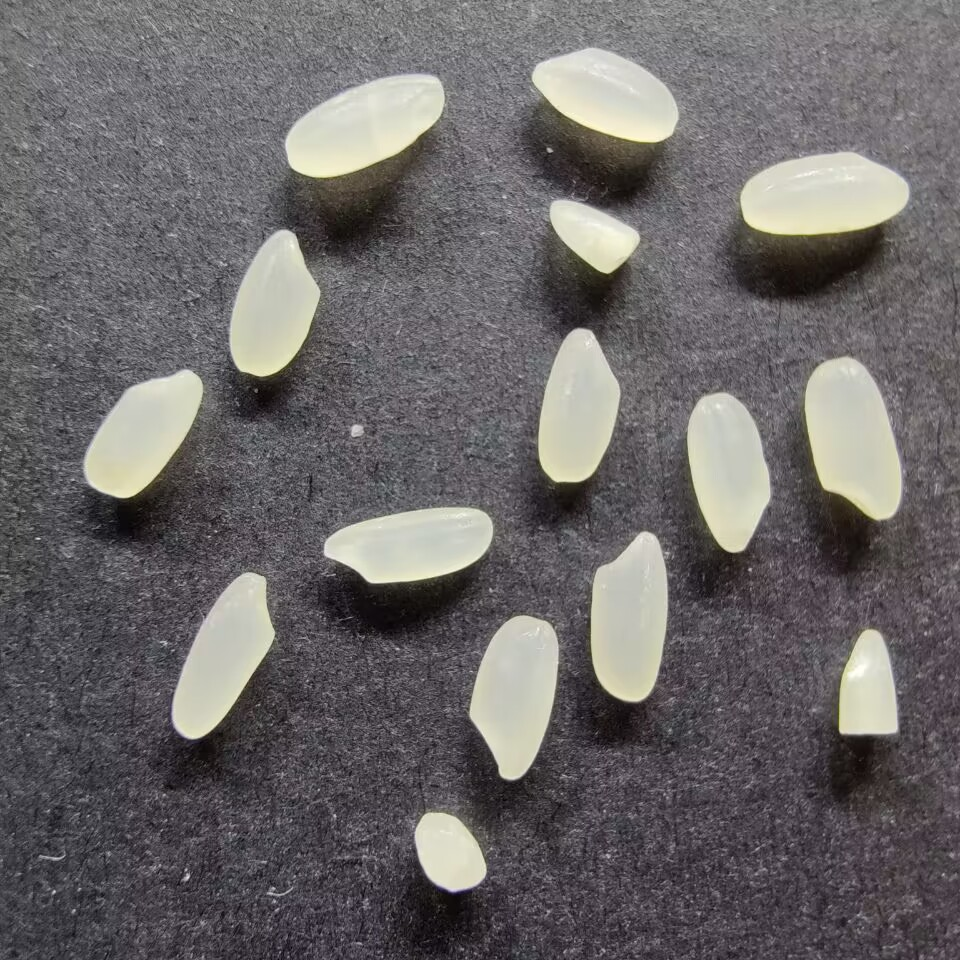broken: (548, 198, 642, 275), (837, 627, 901, 740), (414, 809, 489, 892)
rice: (169, 569, 275, 740), (284, 72, 446, 179), (801, 356, 903, 522), (82, 369, 204, 500), (466, 614, 561, 781), (738, 149, 909, 236), (530, 46, 679, 144), (684, 391, 773, 555), (587, 530, 670, 704), (226, 225, 321, 377), (321, 506, 494, 585), (534, 327, 621, 484)
